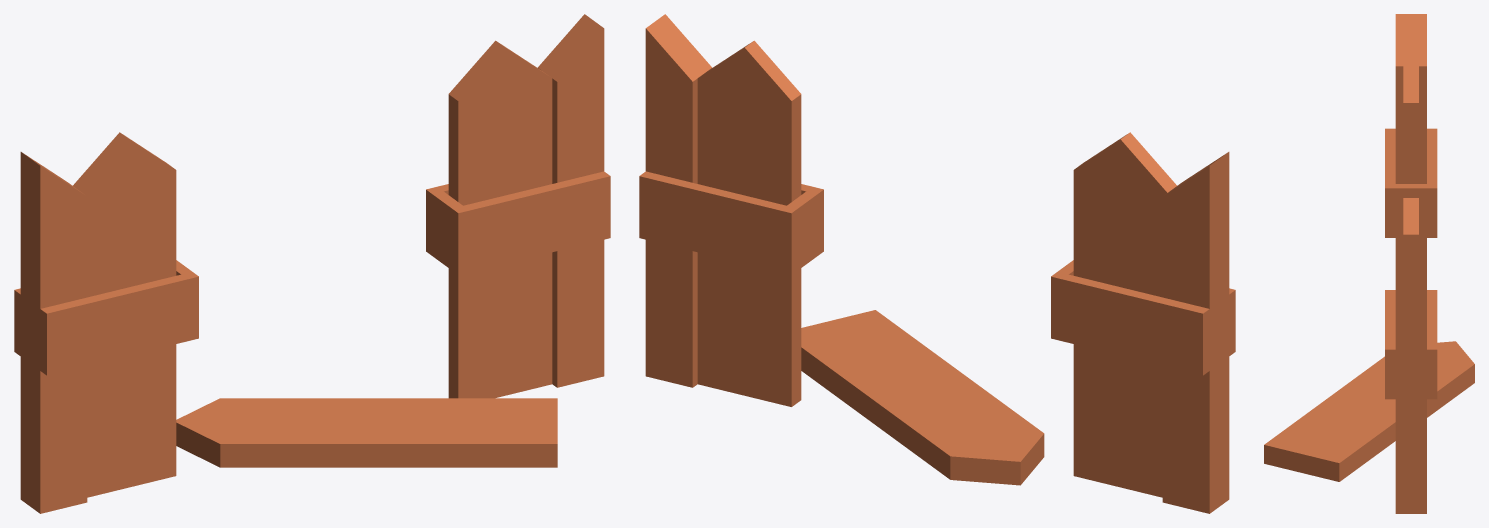
File: fenceDamaged.fbx
3 views of the same model, side by side, from view 1: azimuth 30°, elevation 25°; view 2: azimuth 150°, elevation 25°; view 3: azimuth 270°, elevation 25° (orthographic). The views are drawn at different scales.
Visible parts, largest first — view 1: fenceDamaged, board (×2); view 2: fenceDamaged, board (×2); view 3: fenceDamaged, board (×2).
Boxes of the visible parts, box(x1,y1,x2,y2) form: fenceDamaged: box(20, 14, 604, 513); board (×2): box(14, 171, 610, 375); fenceDamaged: box(645, 14, 1229, 513); board (×2): box(639, 171, 1235, 375); fenceDamaged: box(1264, 14, 1474, 513); board (×2): box(1385, 128, 1437, 399).
Size of the model in its own units: 10 by 5.9 by 4.04.
